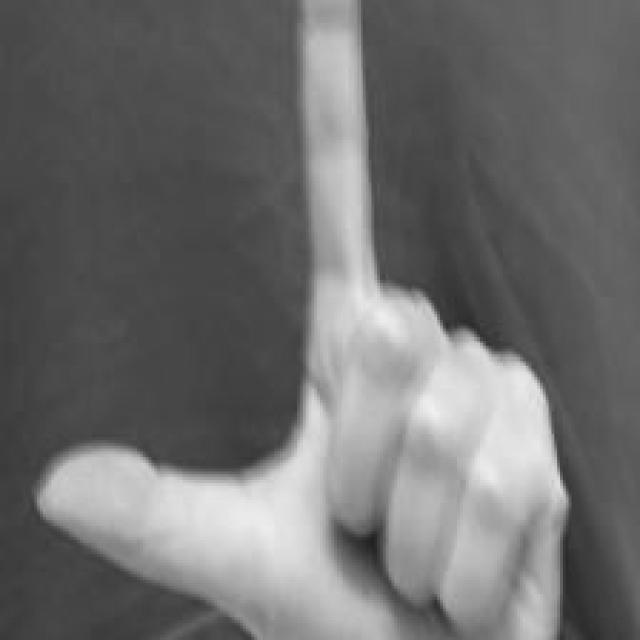L: (33, 2, 573, 640)
